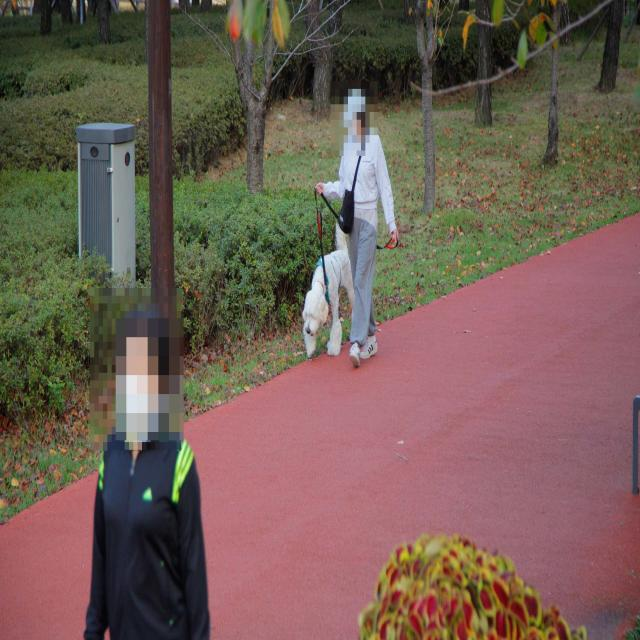Leashed_Dog: (303, 182, 357, 357)
